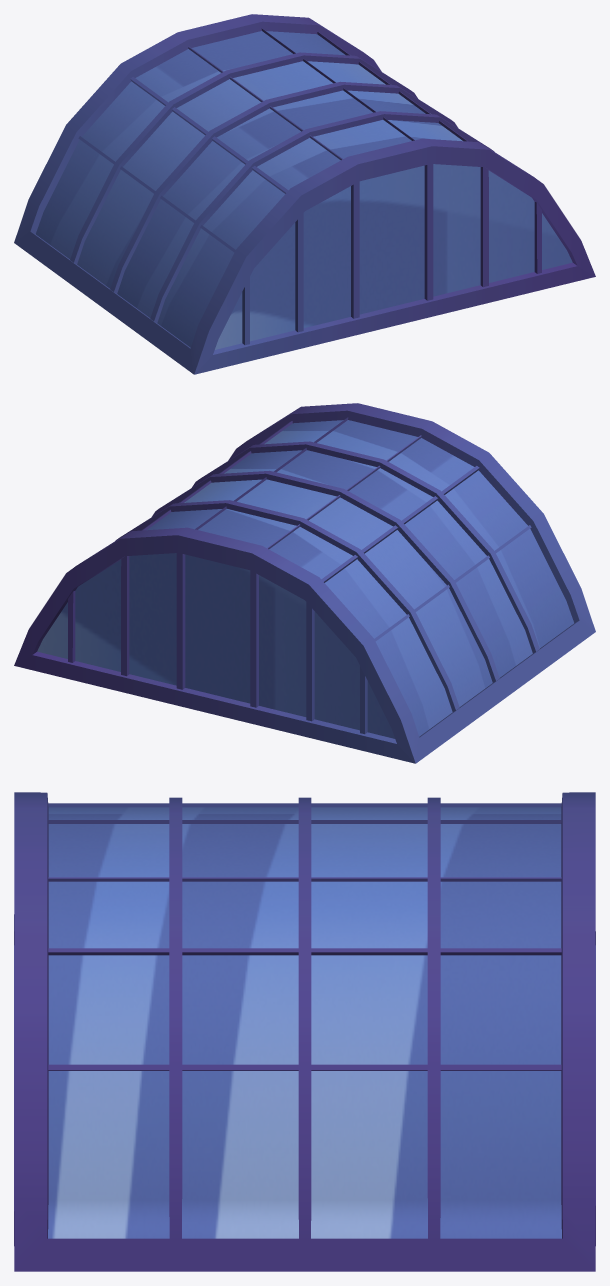
File: RoofProp_5_E.fbx
The picture shows the model from 3 angles, top to bottom: view 1: azimuth 30°, elevation 25°; view 2: azimuth 150°, elevation 25°; view 3: azimuth 270°, elevation 25°; orthographic projection. The views are drawn at different scales.
Parts seen in each view (by area): view 1: RoofProp_5_E; view 2: RoofProp_5_E; view 3: RoofProp_5_E.
Boxes of the visible parts, x1,y1,x2,y2 form: RoofProp_5_E: (14,14,595,374); RoofProp_5_E: (14,403,595,763); RoofProp_5_E: (14,792,595,1271).
Size of the model in its own units: 337 by 137 by 262.
